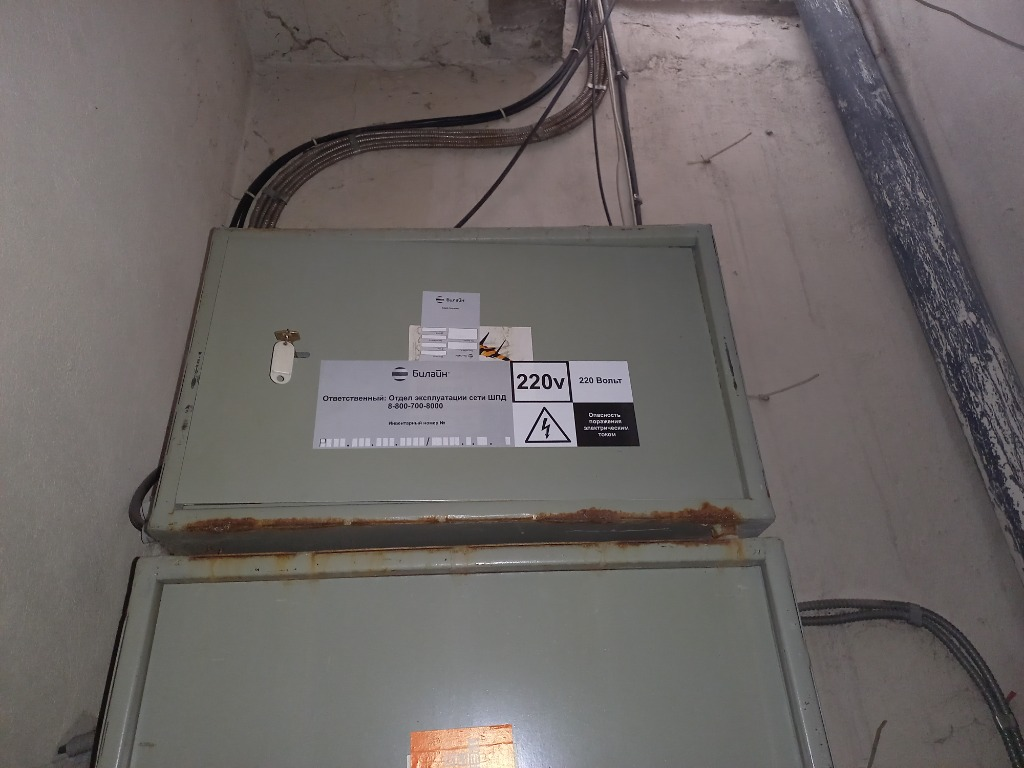e2-6u: (127, 220, 785, 542)
